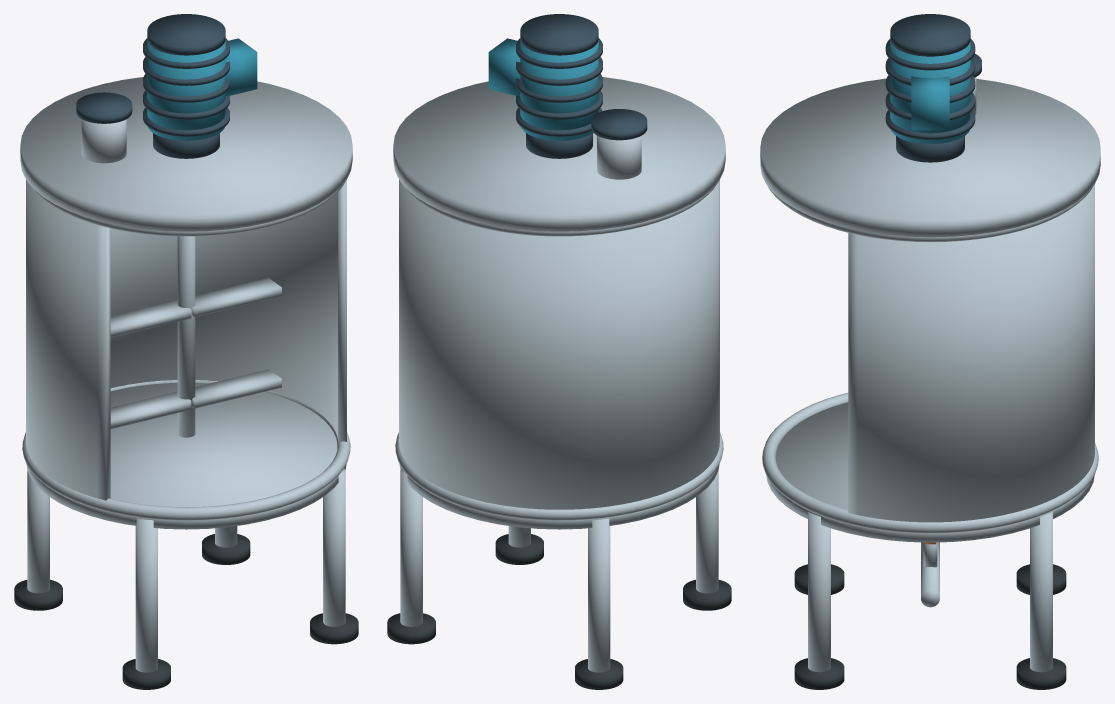
3 renders of one model, left to right at view 1: azimuth 30°, elevation 25°; view 2: azimuth 150°, elevation 25°; view 3: azimuth 270°, elevation 25°, orthographic. The views are drawn at different scales.
Visible parts, largest first — view 1: Tank_shell_cutaway, Tank_lid, Tank_bottom, Lower reinforcement, Motor, Leg_0, Mixer_Shaft, Leg_1, Motor_cap, Leg_2, Mixer_blade.003, Mixer_blade.001 (+16 smaller); view 2: Tank_shell_cutaway, Tank_lid, Motor, Lower reinforcement, Leg_2, Leg_3, Tank_bottom, Motor_cap, Leg_0, Feed_neck, Upper reinforcement, Feed_cap (+11 smaller); view 3: Tank_shell_cutaway, Tank_lid, Tank_bottom, Lower reinforcement, Leg_1, Leg_3, Motor, Motor_cap, Motor_terminal_box, Upper reinforcement, Motor_mount, Foot_1 (+6 smaller).
Part boxes in pixels (x1=…): Tank_shell_cutaway: x1=26, y1=180, x2=346, y2=500; Tank_lid: x1=20, y1=77, x2=352, y2=231; Tank_bottom: x1=26, y1=382, x2=346, y2=529; Lower reinforcement: x1=22, y1=380, x2=350, y2=520; Motor: x1=147, y1=40, x2=225, y2=140; Leg_0: x1=135, y1=518, x2=157, y2=672; Mixer_Shaft: x1=177, y1=236, x2=195, y2=437; Leg_1: x1=323, y1=469, x2=345, y2=626; Motor_cap: x1=147, y1=14, x2=225, y2=55; Leg_2: x1=27, y1=471, x2=49, y2=593; Mixer_blade.003: x1=192, y1=278, x2=281, y2=317; Mixer_blade.001: x1=192, y1=369, x2=281, y2=408; Tank_shell_cutaway: x1=399, y1=180, x2=719, y2=509; Tank_lid: x1=393, y1=77, x2=725, y2=231; Motor: x1=520, y1=40, x2=598, y2=140; Lower reinforcement: x1=395, y1=432, x2=723, y2=520; Leg_2: x1=588, y1=518, x2=610, y2=672; Leg_3: x1=400, y1=469, x2=422, y2=626; Tank_bottom: x1=399, y1=464, x2=719, y2=529; Motor_cap: x1=520, y1=14, x2=598, y2=55; Leg_0: x1=696, y1=471, x2=718, y2=593; Feed_neck: x1=597, y1=135, x2=641, y2=179; Upper reinforcement: x1=401, y1=181, x2=718, y2=236; Feed_cap: x1=591, y1=109, x2=647, y2=140; Tank_shell_cutaway: x1=848, y1=184, x2=1094, y2=522; Tank_lid: x1=760, y1=78, x2=1100, y2=237; Tank_bottom: x1=766, y1=402, x2=1094, y2=542; Lower reinforcement: x1=762, y1=392, x2=1098, y2=533; Leg_1: x1=808, y1=511, x2=830, y2=672; Leg_3: x1=1030, y1=511, x2=1052, y2=672; Motor: x1=890, y1=41, x2=970, y2=144; Motor_cap: x1=890, y1=14, x2=970, y2=56; Motor_terminal_box: x1=911, y1=76, x2=949, y2=130; Upper reinforcement: x1=768, y1=187, x2=1092, y2=242; Motor_mount: x1=896, y1=136, x2=964, y2=162; Foot_1: x1=794, y1=658, x2=844, y2=689.
Size of the model in its own units: 0.905 by 1.74 by 0.89.
